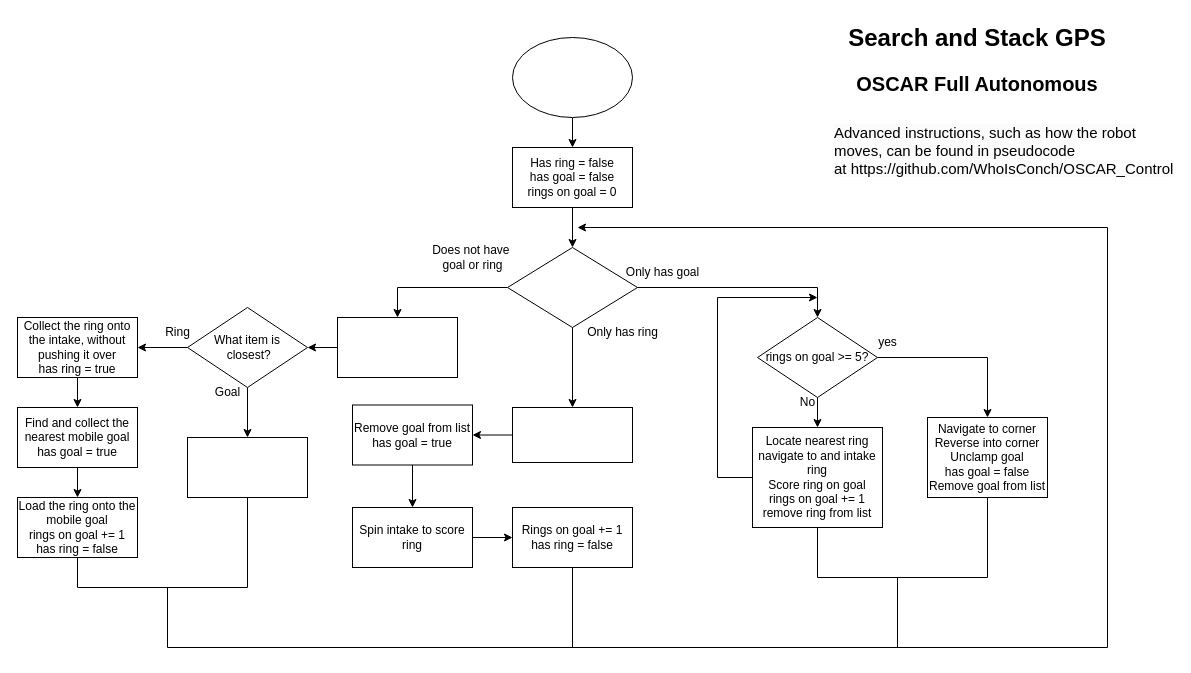
The diagram is 1191 pixels wide and 673 high, and some of its shapes have lost their labels. The box of each missing label's shape, as (x1, y1, x2, y2) in pixels:
Find closest item: Mobile goal or red ring: (336, 316, 458, 378)
Find closest mobile goal Clamp goal: (512, 406, 632, 462)
has goal or has ring?: (506, 246, 638, 328)
Program Start: (512, 36, 632, 118)
Turn and reverse to the goal, then collect it has goal = true: (186, 436, 308, 498)
